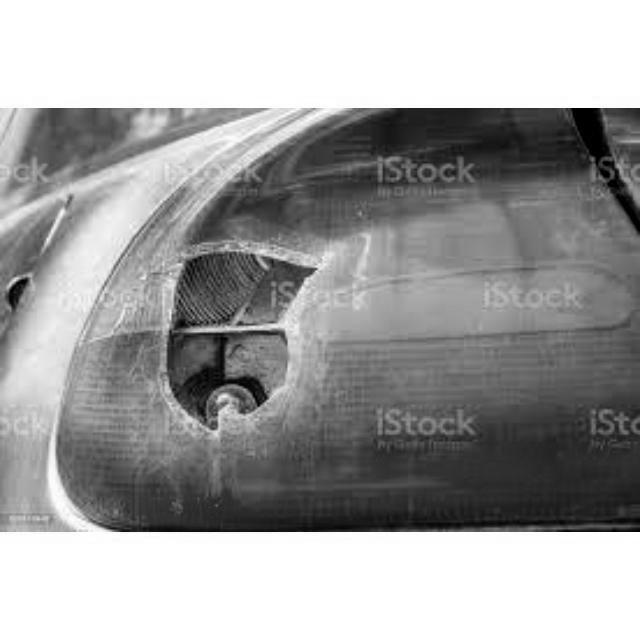Taillight-Damage: (47, 108, 487, 530)
